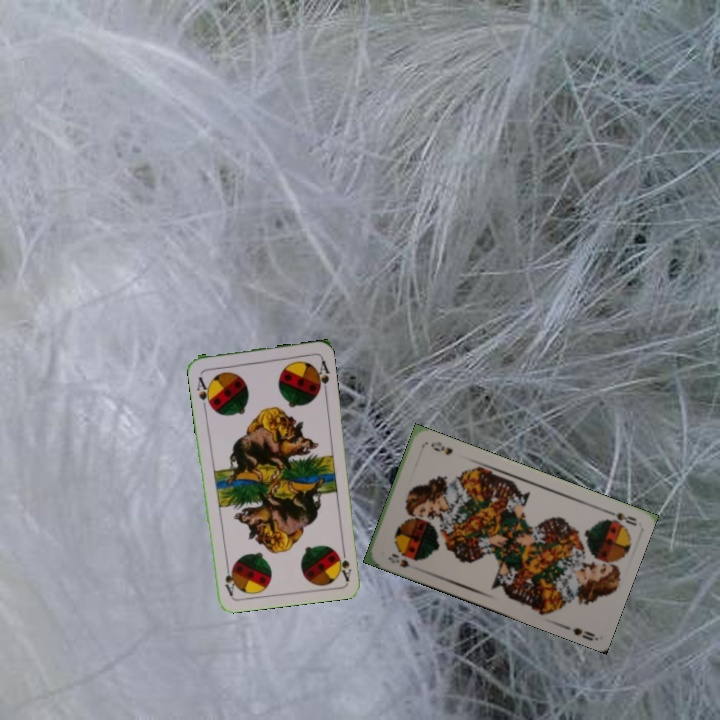SA: (334, 542, 354, 583), (192, 373, 214, 410)
SO: (600, 505, 638, 528), (384, 549, 420, 570)
